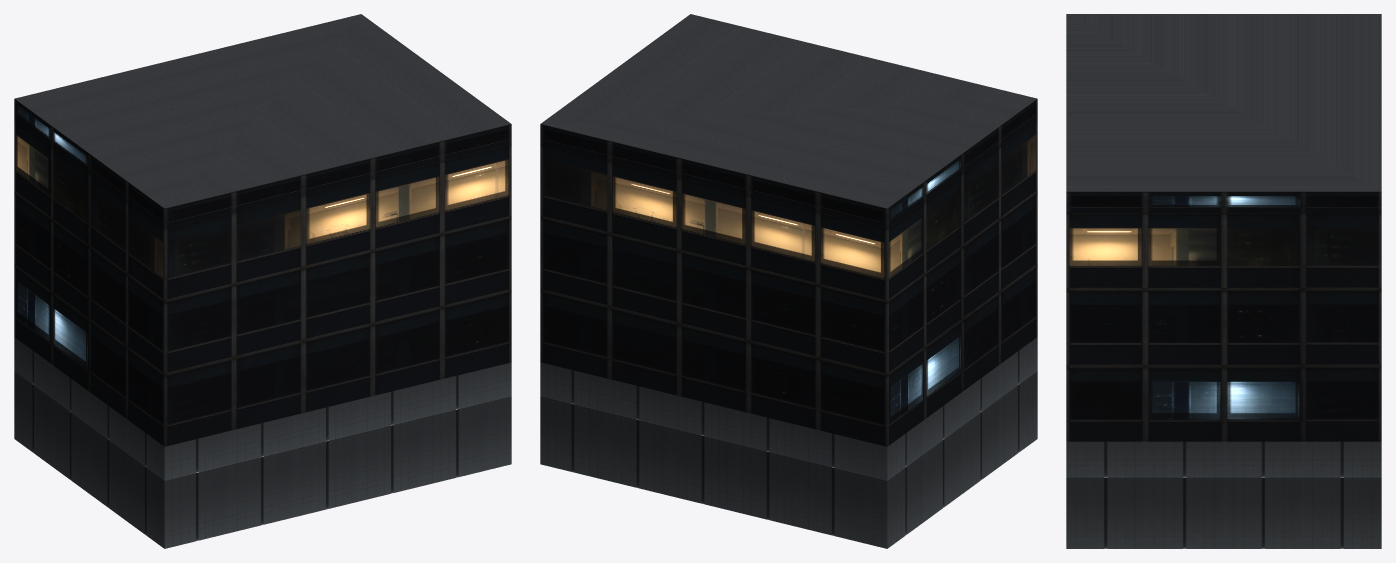
File: hostel.glb
The picture shows the model from 3 angles, left to right: view 1: azimuth 30°, elevation 25°; view 2: azimuth 150°, elevation 25°; view 3: azimuth 270°, elevation 25°; orthographic projection. The views are drawn at different scales.
Visible parts, largest first — view 1: body, crown, ground; view 2: body, crown, ground; view 3: body, crown, ground.
Part boxes in pixels (left/top/right/bottom): body: left=14, top=119, right=511, bottom=446; crown: left=14, top=14, right=511, bottom=228; ground: left=14, top=337, right=511, bottom=548; body: left=540, top=119, right=1037, bottom=446; crown: left=540, top=14, right=1037, bottom=228; ground: left=540, top=337, right=1037, bottom=548; body: left=1066, top=213, right=1381, bottom=441; crown: left=1066, top=14, right=1381, bottom=212; ground: left=1066, top=441, right=1381, bottom=548.
Size of the model in its own units: 16 by 15 by 12.
3 materials, 3 textured.
